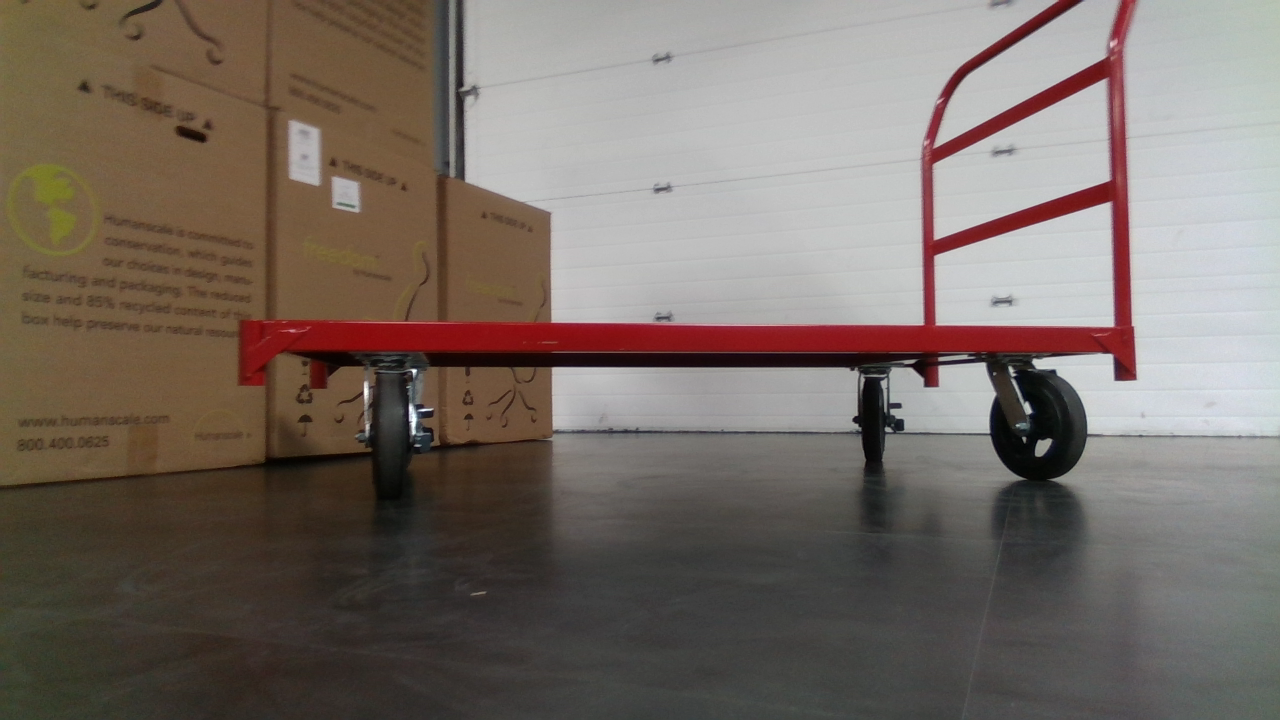Dolly: (236, 0, 1139, 492)
Wheel: (989, 367, 1088, 481), (366, 372, 411, 489), (859, 377, 887, 462)
